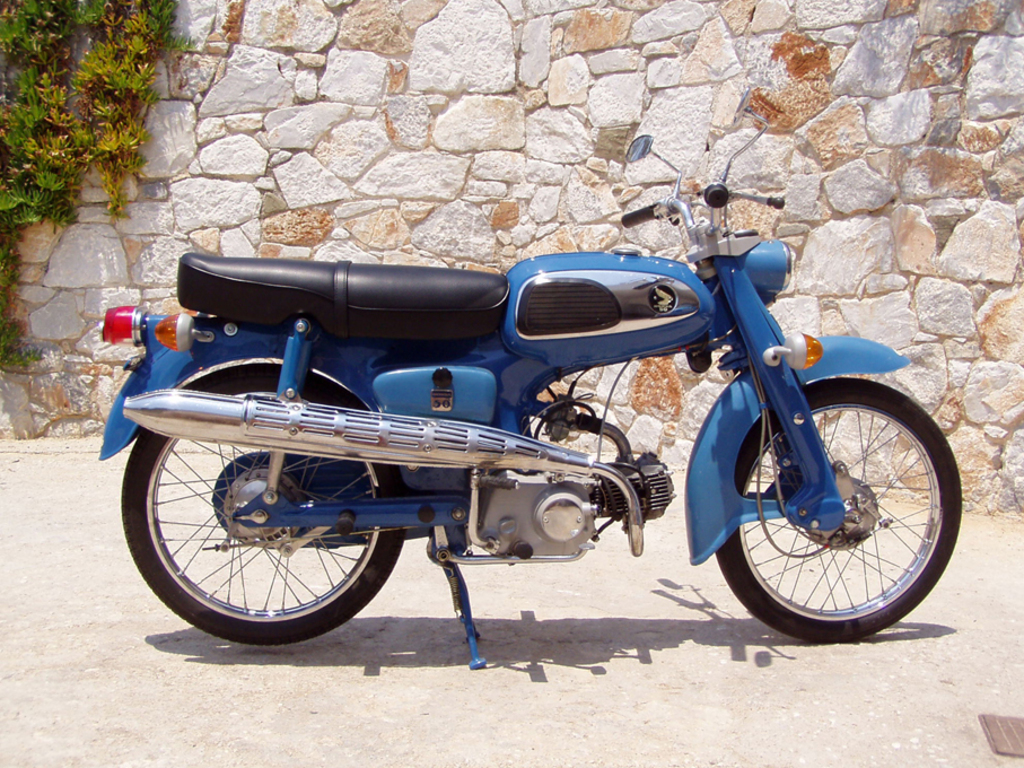Motorcycle: (107, 173, 950, 681)
